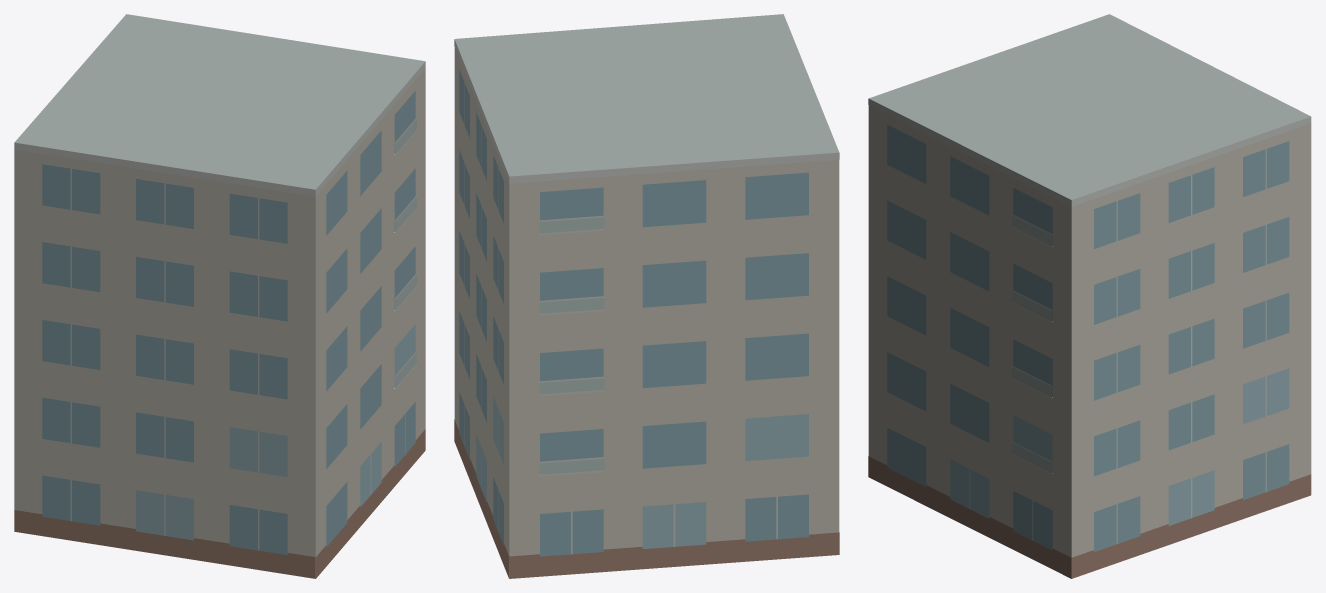
The model's file is survey-upis-32686254.glb.
3 renders of one model, left to right at view 1: azimuth 30°, elevation 25°; view 2: azimuth 150°, elevation 25°; view 3: azimuth 270°, elevation 25°, orthographic. The views are drawn at different scales.
Parts seen in each view (by area): view 1: survey-upis-32686254.tmp; view 2: survey-upis-32686254.tmp; view 3: survey-upis-32686254.tmp.
Boxes of the visible parts, left/top/right/bottom form: survey-upis-32686254.tmp: left=14, top=14, right=425, bottom=578; survey-upis-32686254.tmp: left=454, top=14, right=839, bottom=578; survey-upis-32686254.tmp: left=868, top=14, right=1311, bottom=578.
Size of the model in its own units: 14.5 by 13.75 by 14.58.
